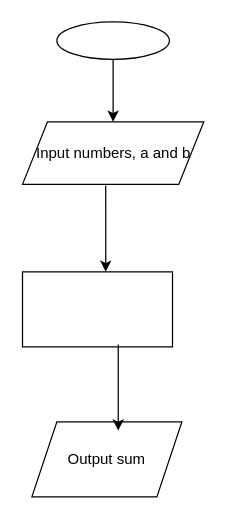
Image size: 225x519. Some labels were removed from this diagram. Here are the shapes that lost their labels. From the top down, the centre of each, then its label:
At (112,40): "Start".
At (96,309): "Compute Sum = (a^2 + b^2)".
